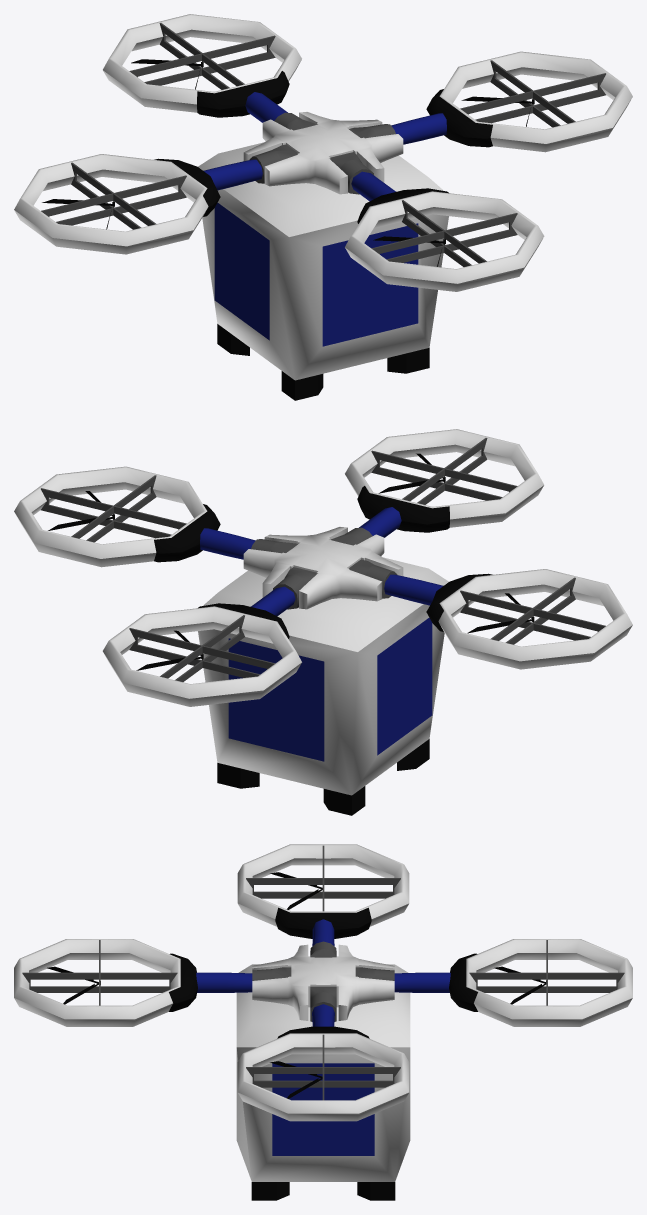
Rendered from drone3.fbx.
3 views of the same model, one above another, from view 1: azimuth 30°, elevation 25°; view 2: azimuth 150°, elevation 25°; view 3: azimuth 270°, elevation 25° (orthographic). The views are drawn at different scales.
Visible parts, largest first — view 1: Drone_3; view 2: Drone_3; view 3: Drone_3.
Part boxes in pixels (left/top/right/bottom): Drone_3: left=14, top=14, right=632, bottom=400; Drone_3: left=14, top=429, right=632, bottom=815; Drone_3: left=14, top=844, right=632, bottom=1200.
Size of the model in its own units: 87.59 by 31.64 by 87.59.
